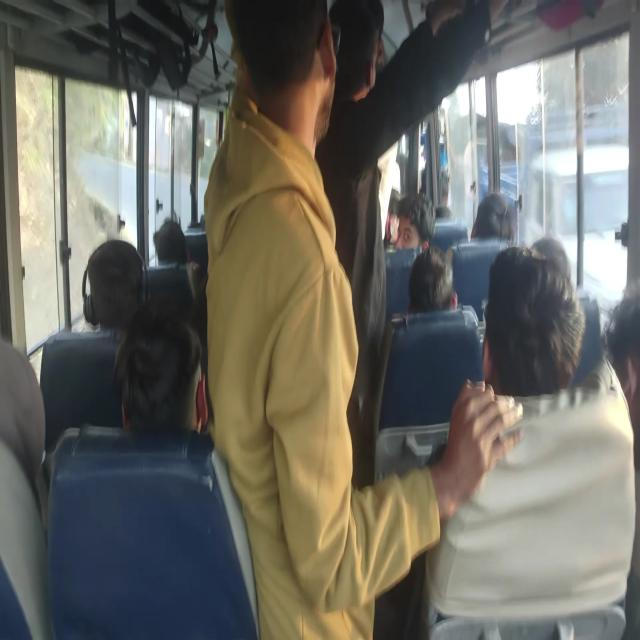person: (491, 250, 572, 416), (242, 0, 328, 132), (128, 315, 206, 434), (0, 367, 47, 492), (328, 0, 394, 88), (97, 237, 147, 342), (606, 283, 640, 426), (476, 193, 530, 250), (414, 249, 459, 308), (538, 228, 573, 292), (150, 216, 180, 269), (391, 191, 429, 230), (422, 163, 458, 196)
